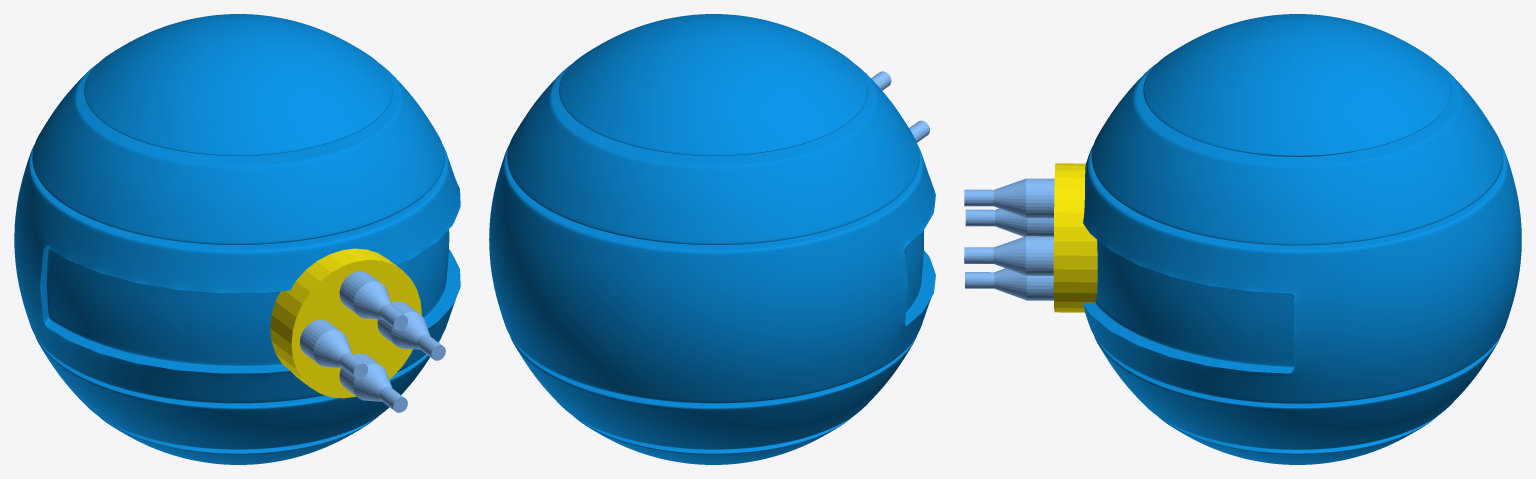
The model's file is BlueSphereTurret.glb.
3 renders of one model, left to right at view 1: azimuth 30°, elevation 25°; view 2: azimuth 150°, elevation 25°; view 3: azimuth 270°, elevation 25°, orthographic.
Visible parts, largest first — view 1: Sphere, Cylinder; view 2: Sphere, Cylinder; view 3: Sphere, Cylinder.
Part boxes in pixels (x1,y1,x2,y2): Sphere: (14, 14, 460, 464); Cylinder: (270, 248, 445, 412); Sphere: (489, 14, 935, 464); Cylinder: (871, 71, 929, 142); Sphere: (1083, 14, 1521, 464); Cylinder: (964, 163, 1097, 312).
Bounding box in the file's own units: 2 × 2 × 2.45.
